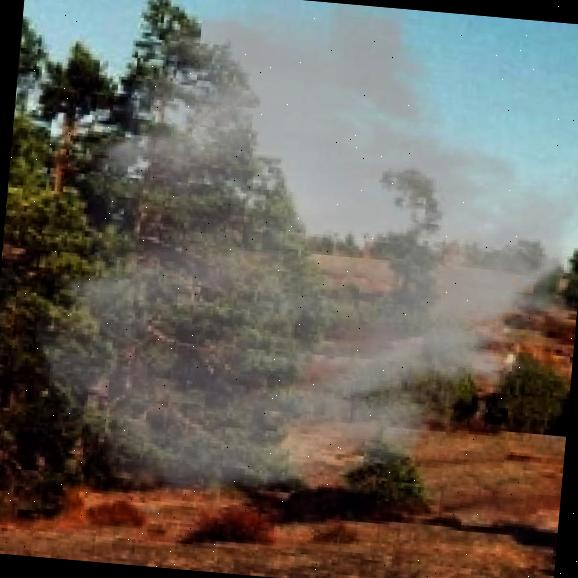smoke: (16, 0, 578, 539)
